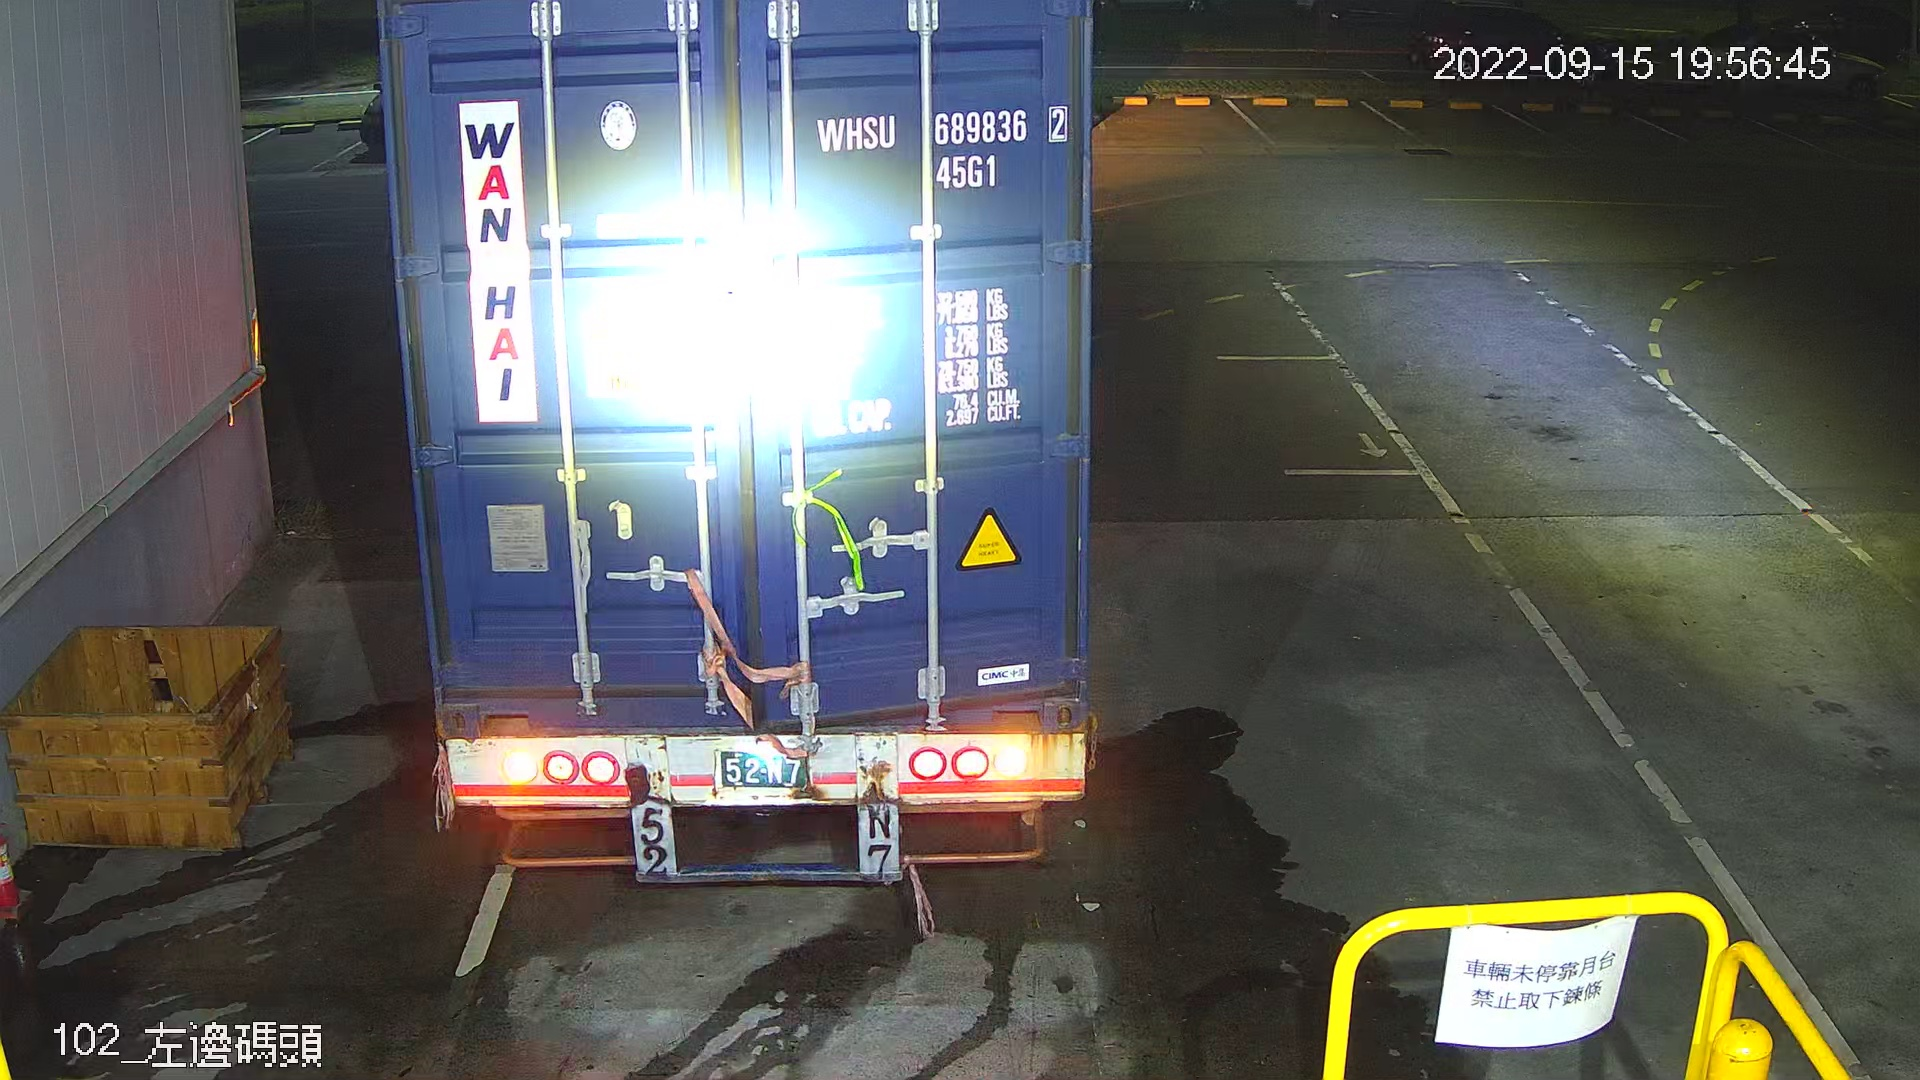container: (829, 11, 997, 83)
